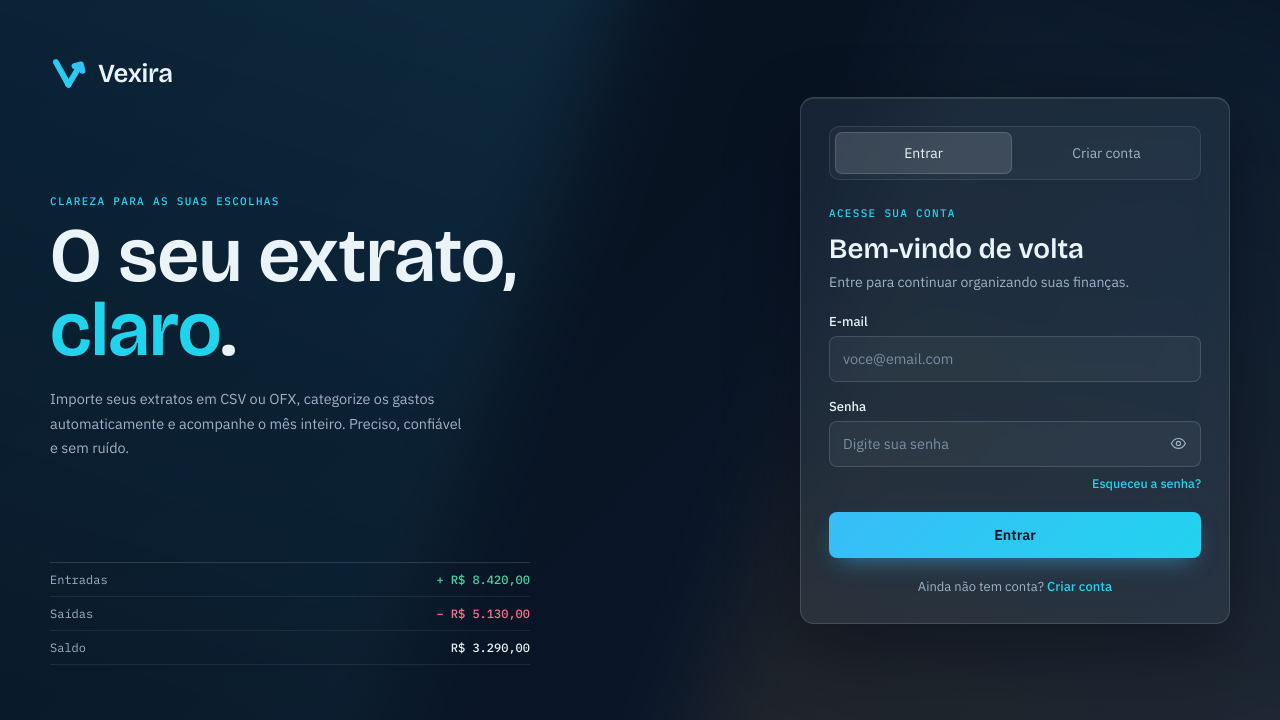
Test: AuthPage › trocar de aba limpa a senha e o erro
Type "ana@teste.com" into the field labelled "E-mail" at (1015, 358), box [829,336,1201,382]
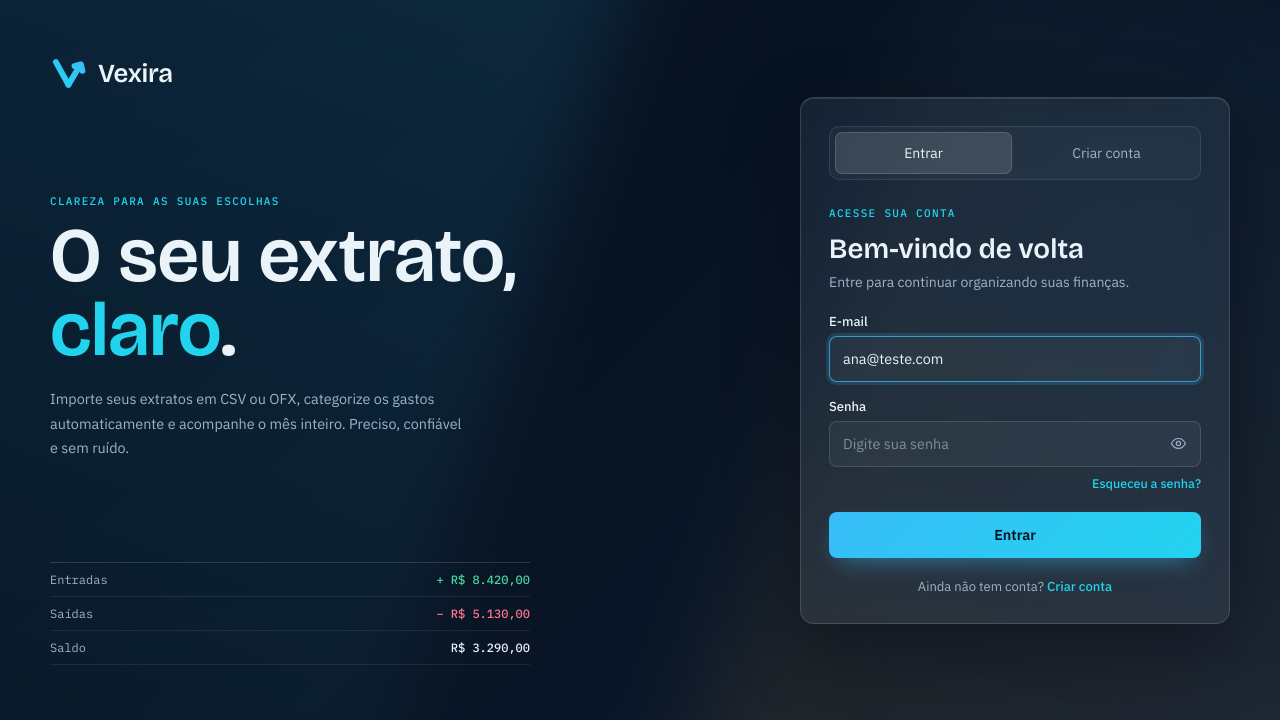
Type "senha-errada" into the password field labelled "Senha" at (1015, 444), box [829,420,1201,466]
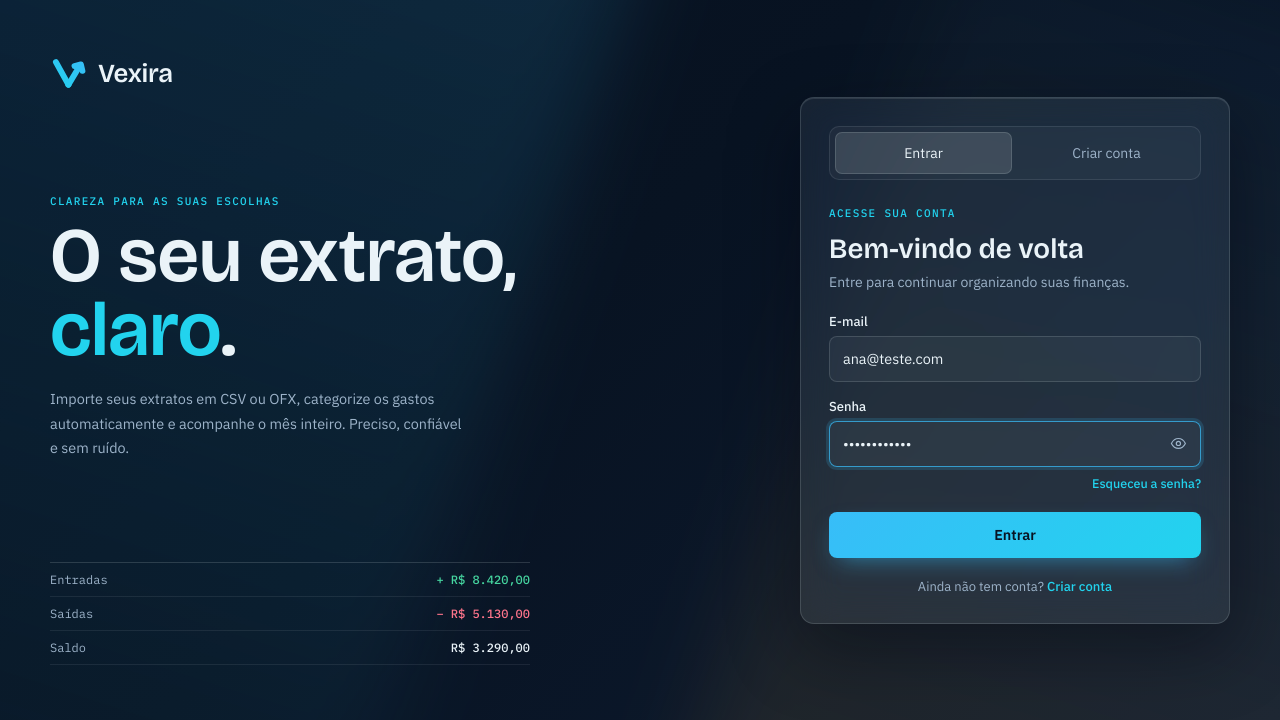
Click the button "Entrar" at (1015, 534), box [829,512,1201,558]
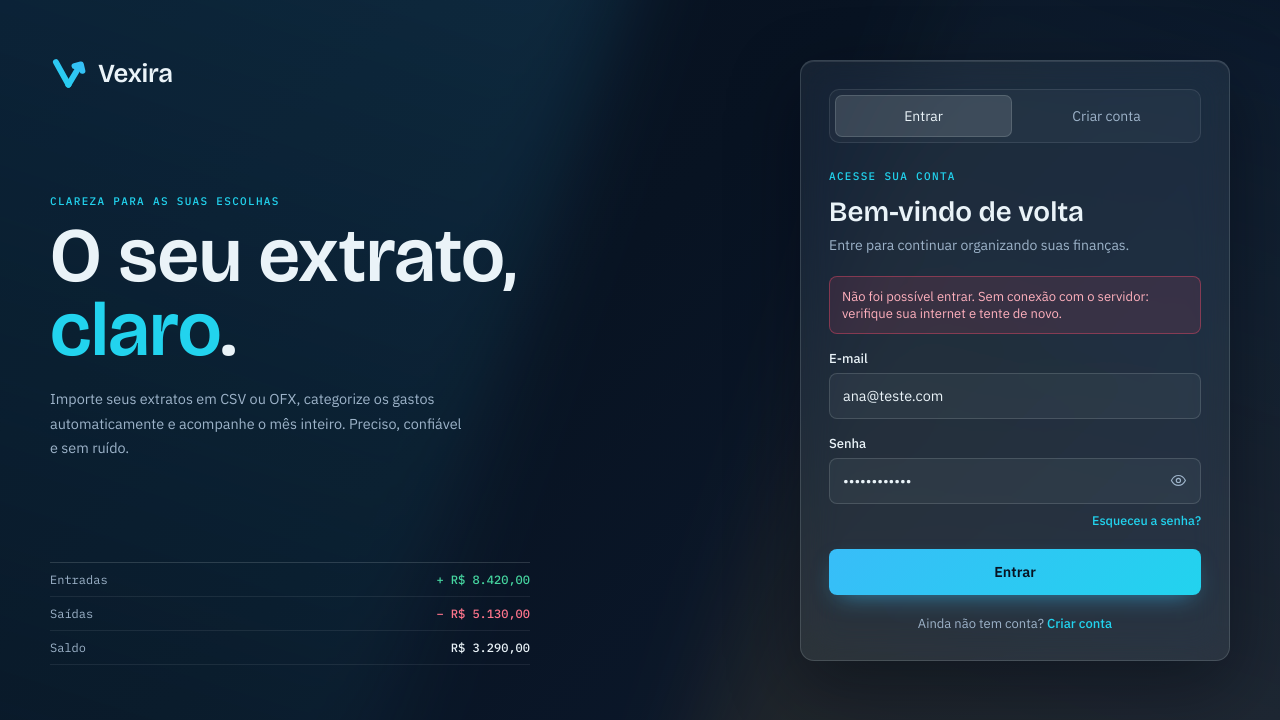
Result: the message is shown at [829,276,1201,334]
Click the tab "Criar conta" at (1106, 116), box [1018,94,1195,136]
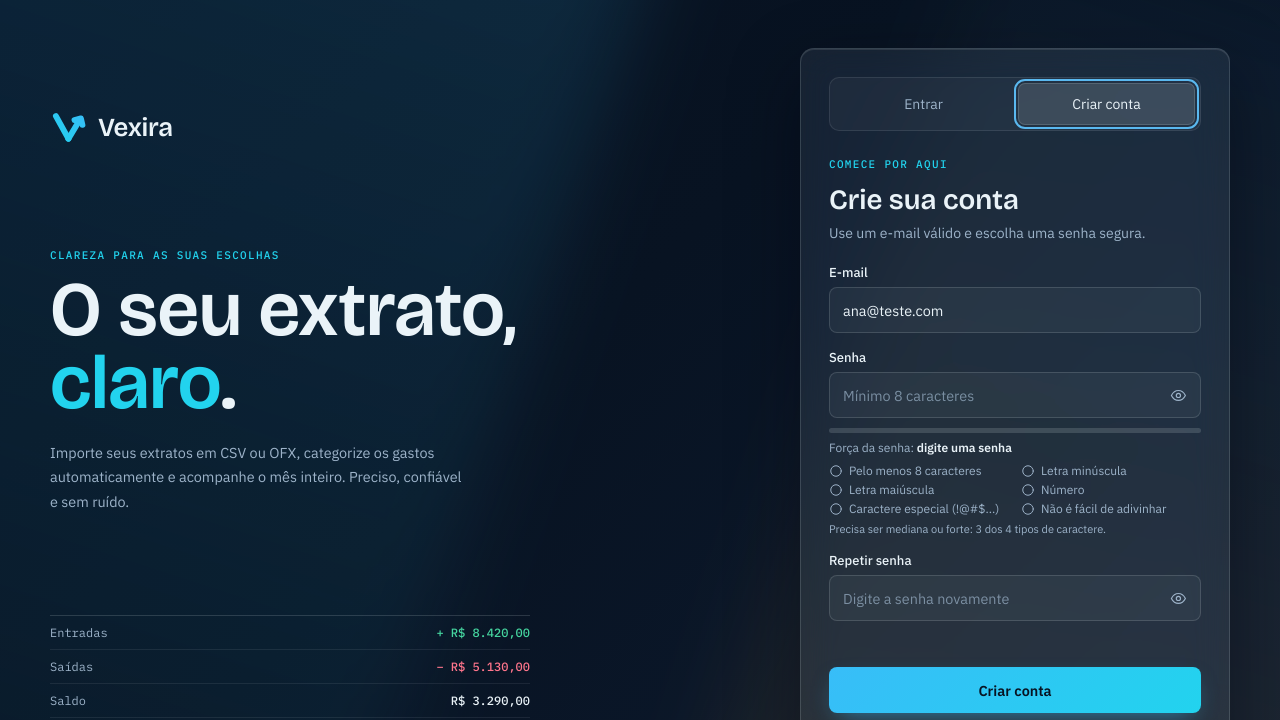
Result: the message is gone
Result: the password field labelled "Senha" is empty at [829,372,1201,418]
